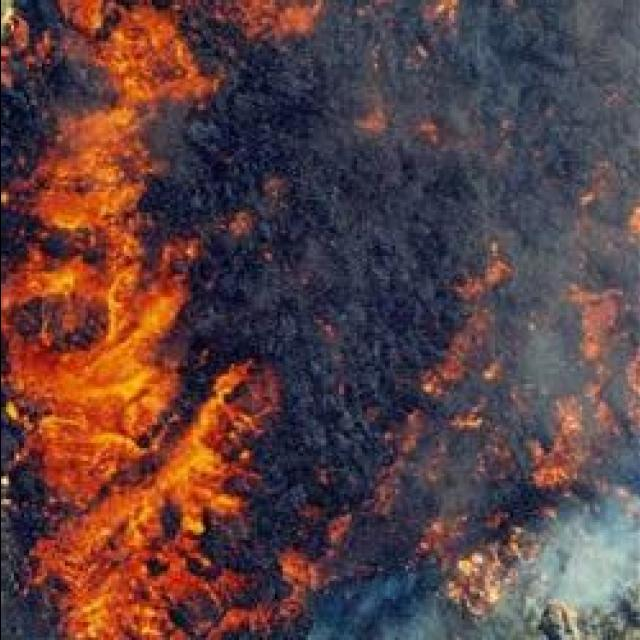fire: (26, 89, 182, 381), (46, 505, 189, 640), (55, 362, 125, 442)
smoke: (546, 475, 638, 612)
